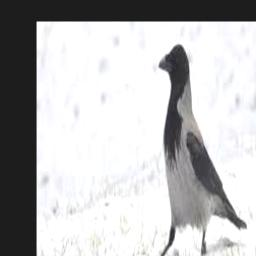Crow: (157, 42, 248, 256)
